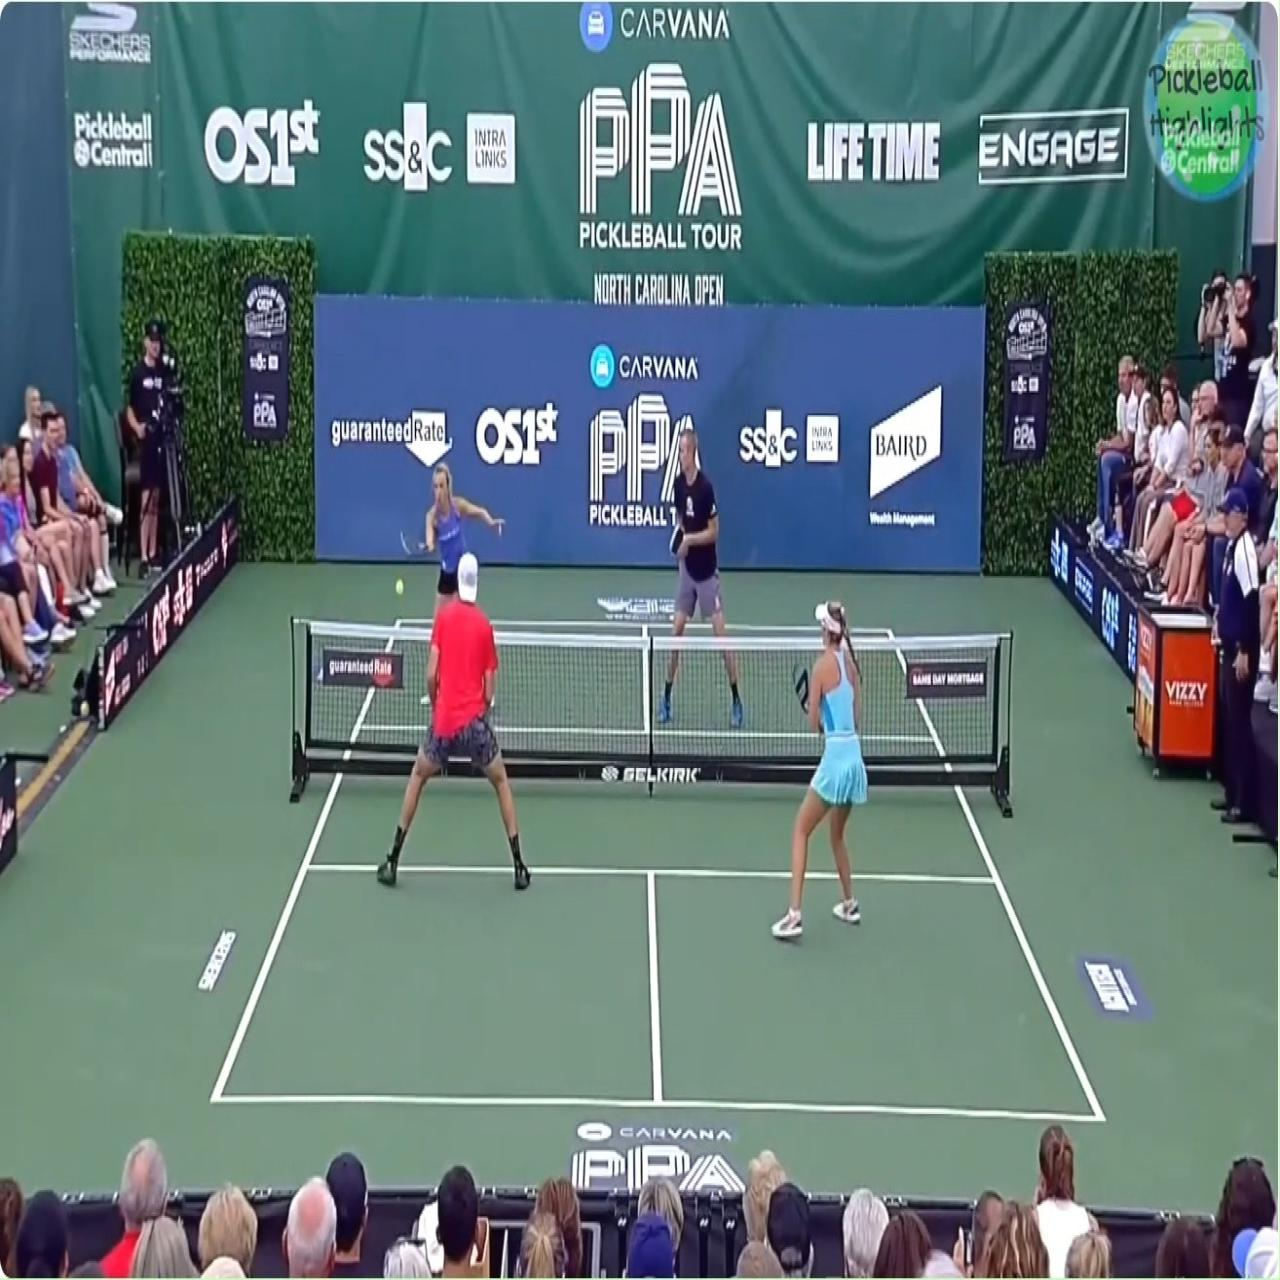pickleball: (395, 578, 403, 595)
